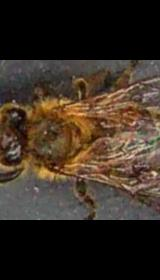varroa_mite: (118, 100, 144, 136)
